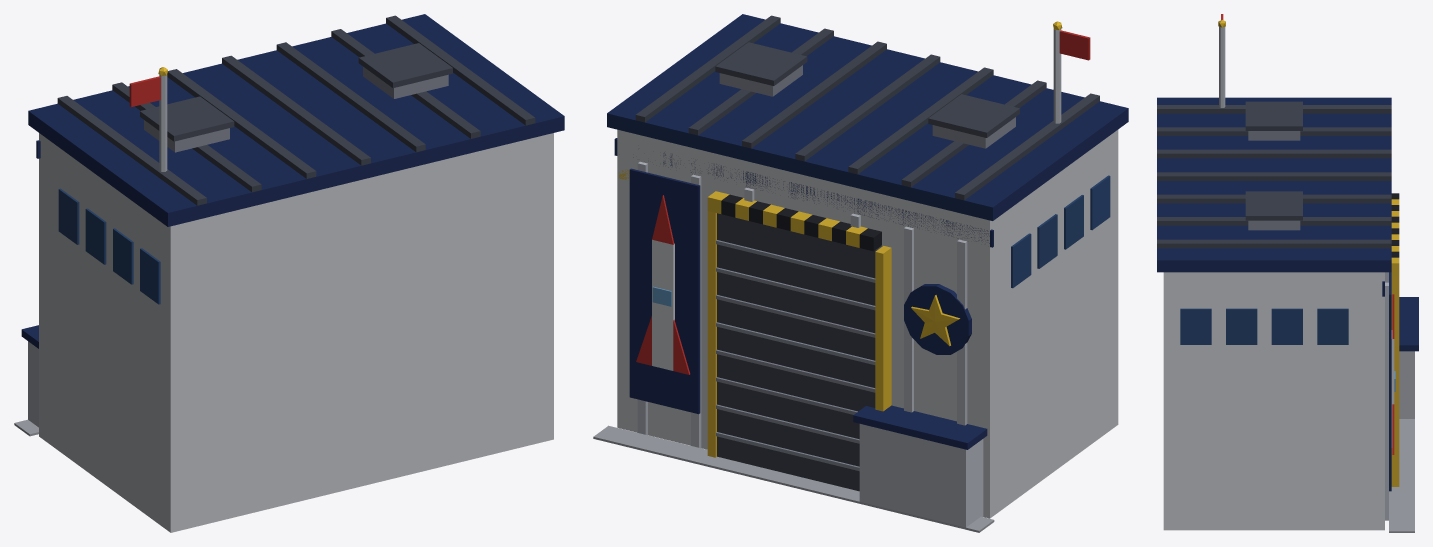
Rendered from Decor_LaunchPad_Hangar.fbx.
3 renders of one model, left to right at view 1: azimuth 30°, elevation 25°; view 2: azimuth 150°, elevation 25°; view 3: azimuth 270°, elevation 25°, orthographic. The views are drawn at different scales.
Visible parts, largest first — view 1: Hangar_Body; view 2: Hangar_Body; view 3: Hangar_Body.
Part boxes in pixels (bbox=[...]): Hangar_Body: bbox=[14, 14, 564, 532]; Hangar_Body: bbox=[593, 14, 1128, 532]; Hangar_Body: bbox=[1157, 14, 1418, 532].
Bounding box in the file's own units: 29.1 × 30.4 × 19.8.
